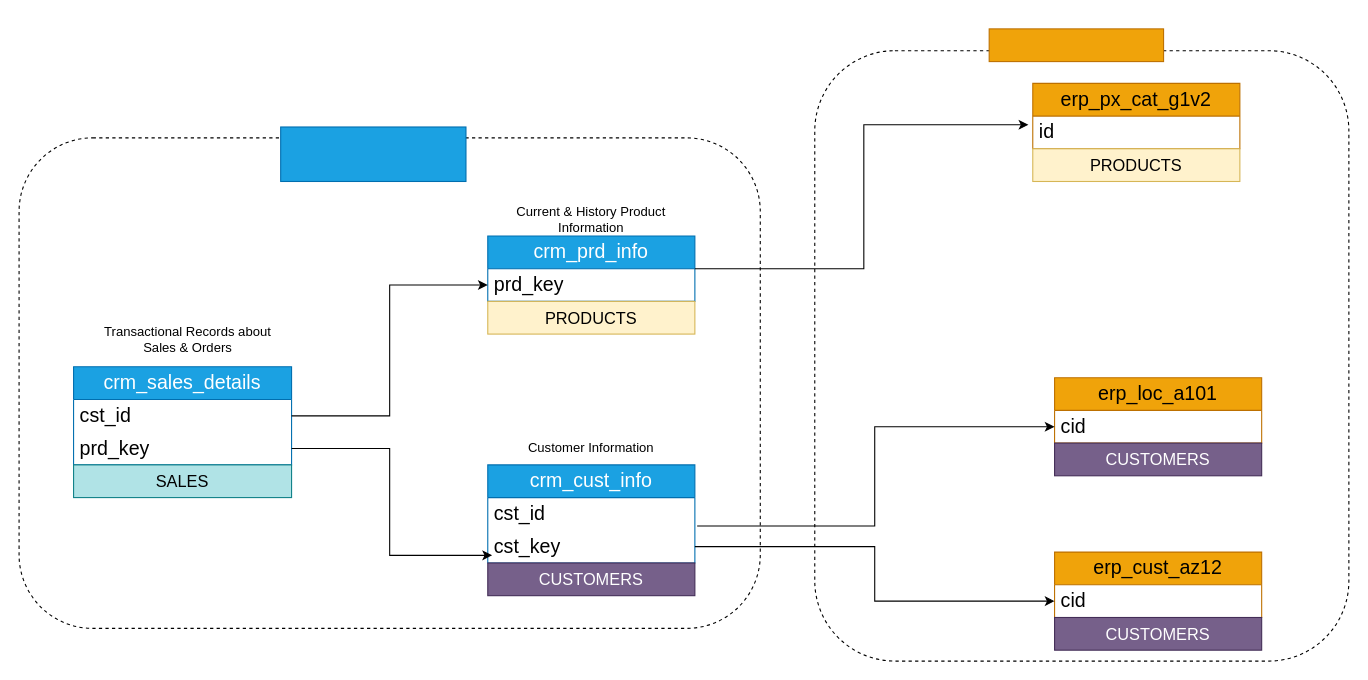
This 1368x680 diagram has some shape labels left out. Each missing label, with the centre of its shape:
"CRM" goes at pixel 373 153.
"ERP" goes at pixel 1076 45.
